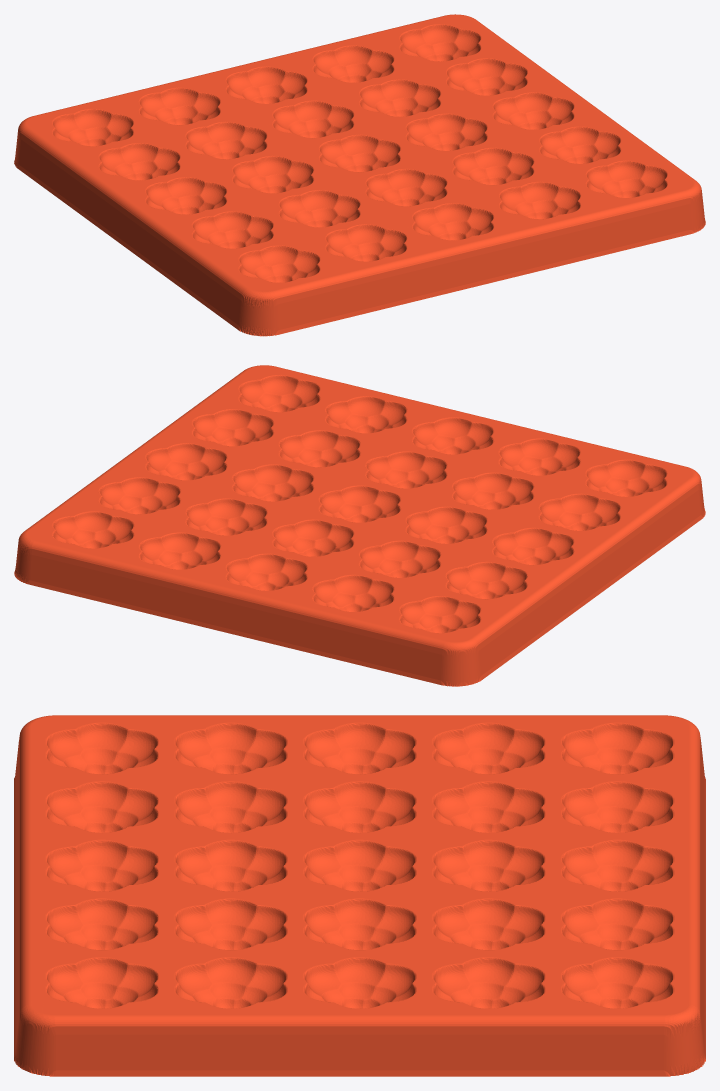
Rendered from mold.glb.
3 renders of one model, top to bottom at view 1: azimuth 30°, elevation 25°; view 2: azimuth 150°, elevation 25°; view 3: azimuth 270°, elevation 25°, orthographic. The views are drawn at different scales.
Parts seen in each view (by area): view 1: geometry_0; view 2: geometry_0; view 3: geometry_0.
Part boxes in pixels (x1,y1,x2,y2): geometry_0: (14, 14, 705, 336); geometry_0: (14, 365, 705, 686); geometry_0: (14, 715, 705, 1076).
Bounding box in the file's own units: 0.1584 × 0.0128 × 0.148.
